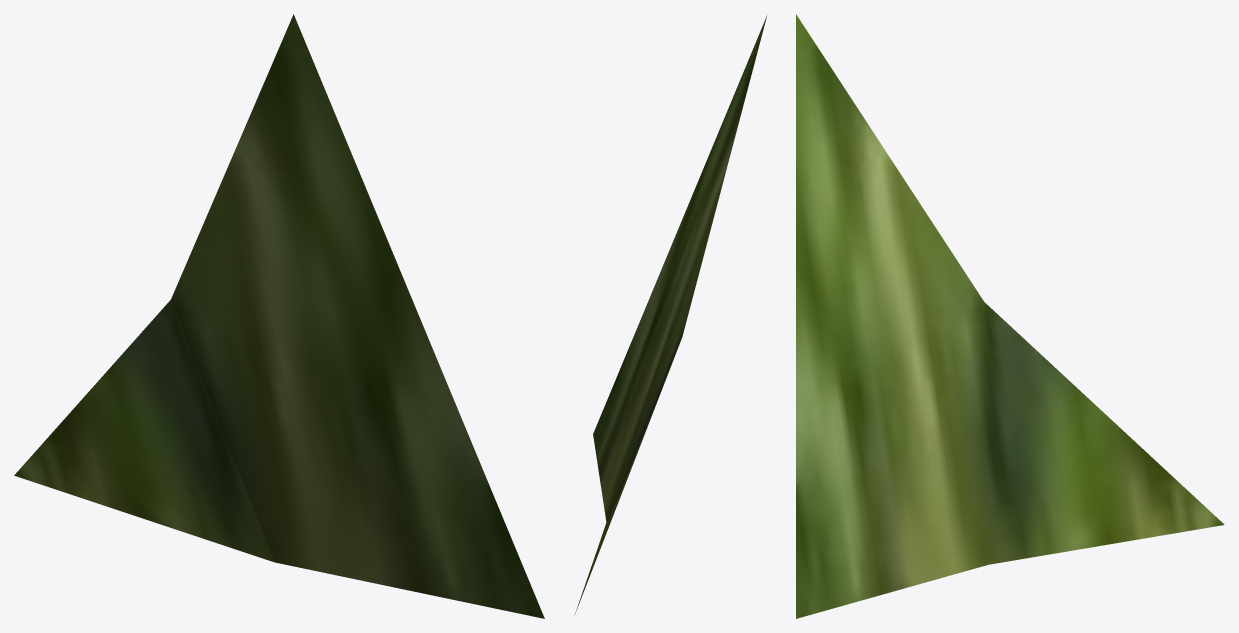
3 views of the same model, side by side, from view 1: azimuth 30°, elevation 25°; view 2: azimuth 150°, elevation 25°; view 3: azimuth 270°, elevation 25° (orthographic). The views are drawn at different scales.
Bounding box in the file's own units: 0.2823 × 0.7151 × 0.544.
1 material, 1 textured.
